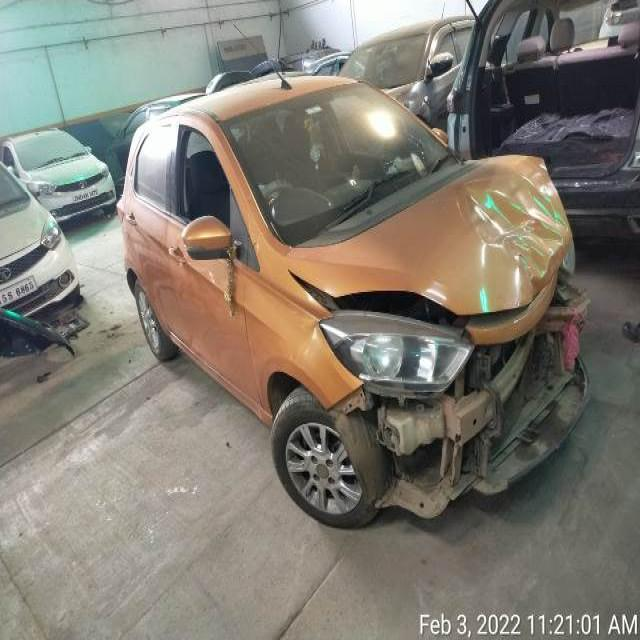damage: (320, 397, 534, 520), (444, 299, 590, 431), (468, 157, 569, 287)
